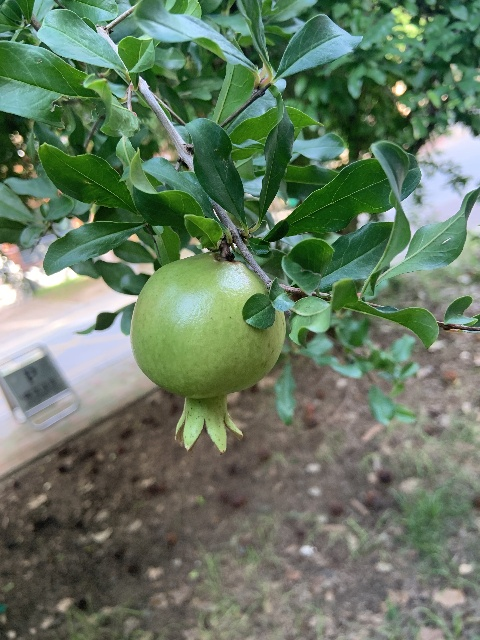mid-growth: (129, 254, 284, 454)
